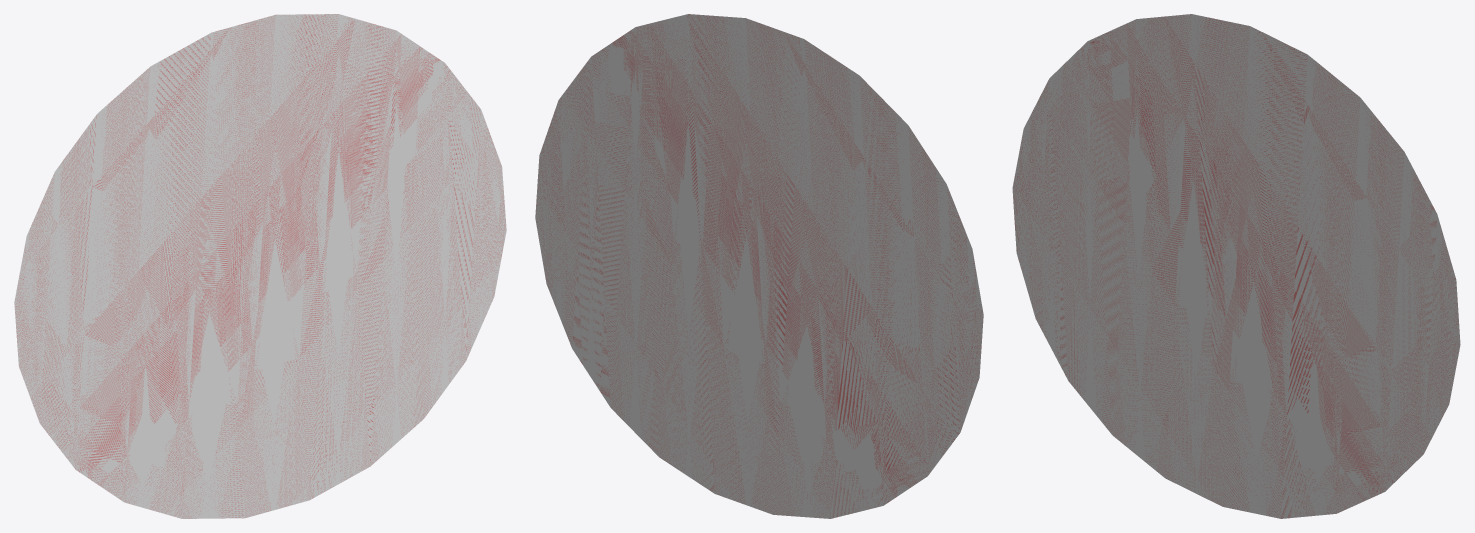
Rendered from original-102.obj.
3 views of the same model, side by side, from view 1: azimuth 30°, elevation 25°; view 2: azimuth 150°, elevation 25°; view 3: azimuth 330°, elevation 25° (orthographic).
Parts seen in each view (by area): view 1: 3dw.47c68395a5775e10d9deb3f829cc2475/Model/Component_18_1/Compon; view 2: 3dw.47c68395a5775e10d9deb3f829cc2475/Model/Component_18_1/Compon; view 3: 3dw.47c68395a5775e10d9deb3f829cc2475/Model/Component_18_1/Compon.
Part boxes in pixels (box(x1,y1,x2,y2)): 3dw.47c68395a5775e10d9deb3f829cc2475/Model/Component_18_1/Compon: box(14, 14, 506, 518); 3dw.47c68395a5775e10d9deb3f829cc2475/Model/Component_18_1/Compon: box(535, 14, 983, 518); 3dw.47c68395a5775e10d9deb3f829cc2475/Model/Component_18_1/Compon: box(1012, 14, 1460, 518).
Size of the model in its own units: 0.0156 by 0.0156 by 0.00104.
